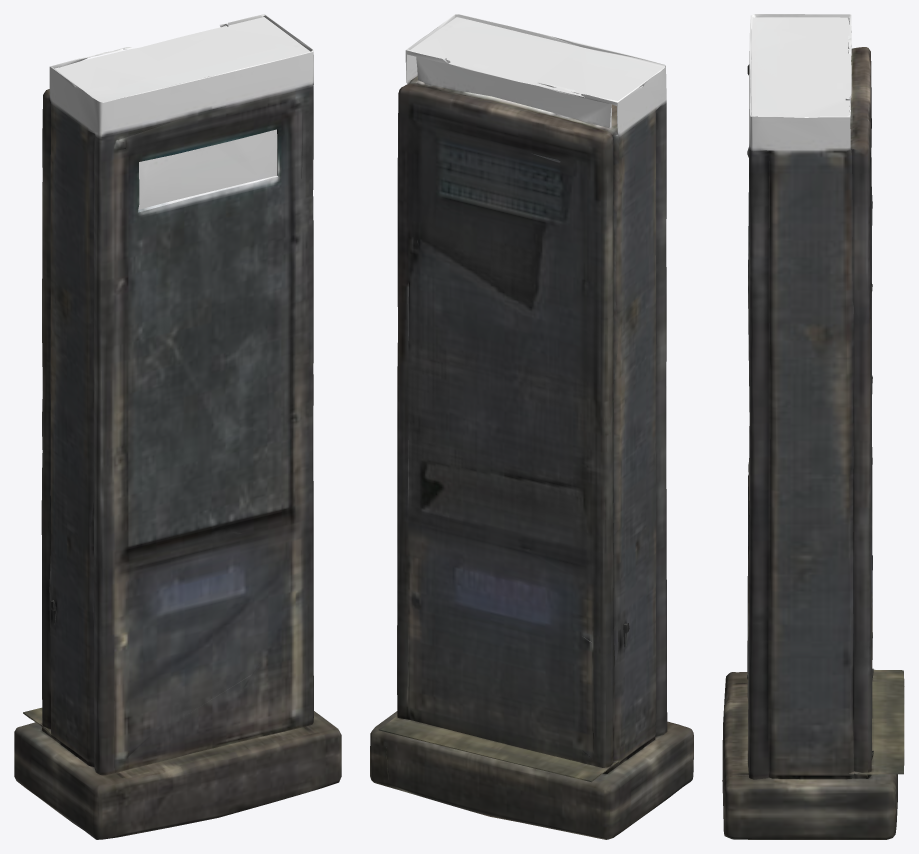
The model's file is p7-info-touch-kiosk.glb.
3 views of the same model, side by side, from view 1: azimuth 30°, elevation 25°; view 2: azimuth 150°, elevation 25°; view 3: azimuth 270°, elevation 25° (orthographic).
Parts seen in each view (by area): view 1: p7-info-touch-kiosk; view 2: p7-info-touch-kiosk; view 3: p7-info-touch-kiosk.
Part boxes in pixels (left/top/right/bottom): p7-info-touch-kiosk: left=14, top=14, right=341, bottom=839; p7-info-touch-kiosk: left=370, top=14, right=693, bottom=839; p7-info-touch-kiosk: left=722, top=14, right=904, bottom=839.
Size of the model in its own units: 0.6 by 1.7 by 0.3884.
1 material, 1 textured.
